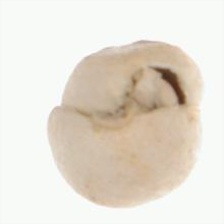L3: (114, 63, 188, 119)
L4: (46, 39, 203, 208)
